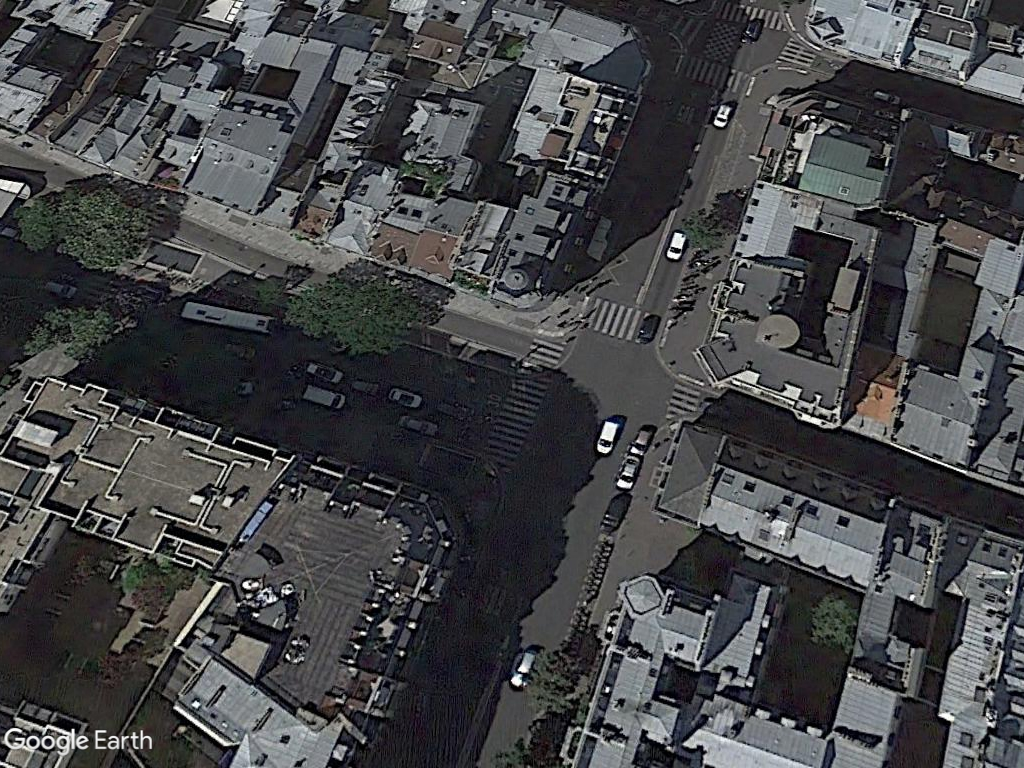bus: (180, 297, 280, 335)
car: (506, 642, 541, 692), (393, 410, 445, 442), (611, 450, 644, 496), (40, 275, 83, 303), (596, 411, 622, 456), (305, 358, 346, 385), (628, 420, 656, 459), (387, 384, 425, 410), (666, 227, 691, 262), (710, 98, 734, 133)
van: (297, 379, 350, 414)
